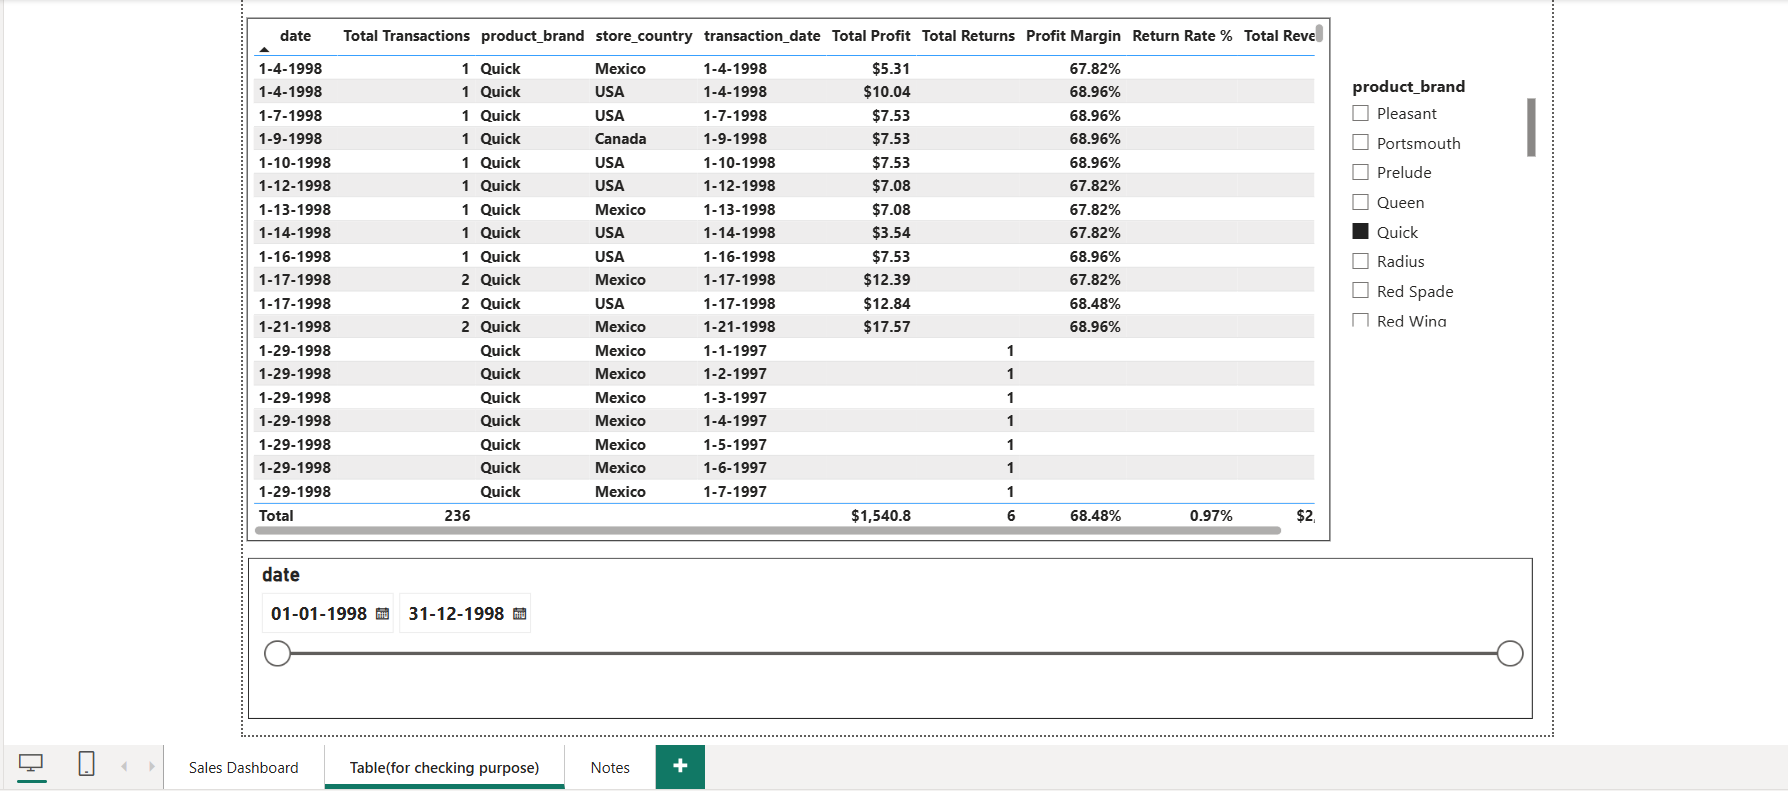

The dashboard page shown, as its layout file describes it:
{"tool":"powerbi","page":{"name":"Table(for checking purpose)","canvas":[1280,720],"ordinal":1},"visuals":[{"type":"tableEx","fields":{"Values":["Calendar.date","Measure.Total Transactions","Products.product_brand","Stores.store_country","Transactions_Data.transaction_date","Measure.Total Profit","Measure.Total Returns","Measure.Profit Margin","Measure.Return Rate %","Measure.Total Revenue"]},"box":[3.7,18.3,1060.2,512.4],"z":0},{"type":"slicer","fields":{"Values":["Calendar.date"]},"box":[4.9,546.6,1257.1,157.7],"z":2000},{"type":"slicer","fields":{"Values":["Products.product_brand"]},"box":[1072.4,68.5,196.9,256.8],"z":3000}]}

Visuals, with their boxes on the page's 1280x720 design canvas (x1, y1, x2, y2). These are canvas units, not pixel positions in the 1788x791 screenshot, which may show the page scaled, cropped or inside an application window:
tableEx - Calendar.date x Measure.Total Transactions: box(4, 18, 1064, 531)
slicer - Calendar.date: box(5, 547, 1262, 704)
slicer - Products.product_brand: box(1072, 68, 1269, 325)
